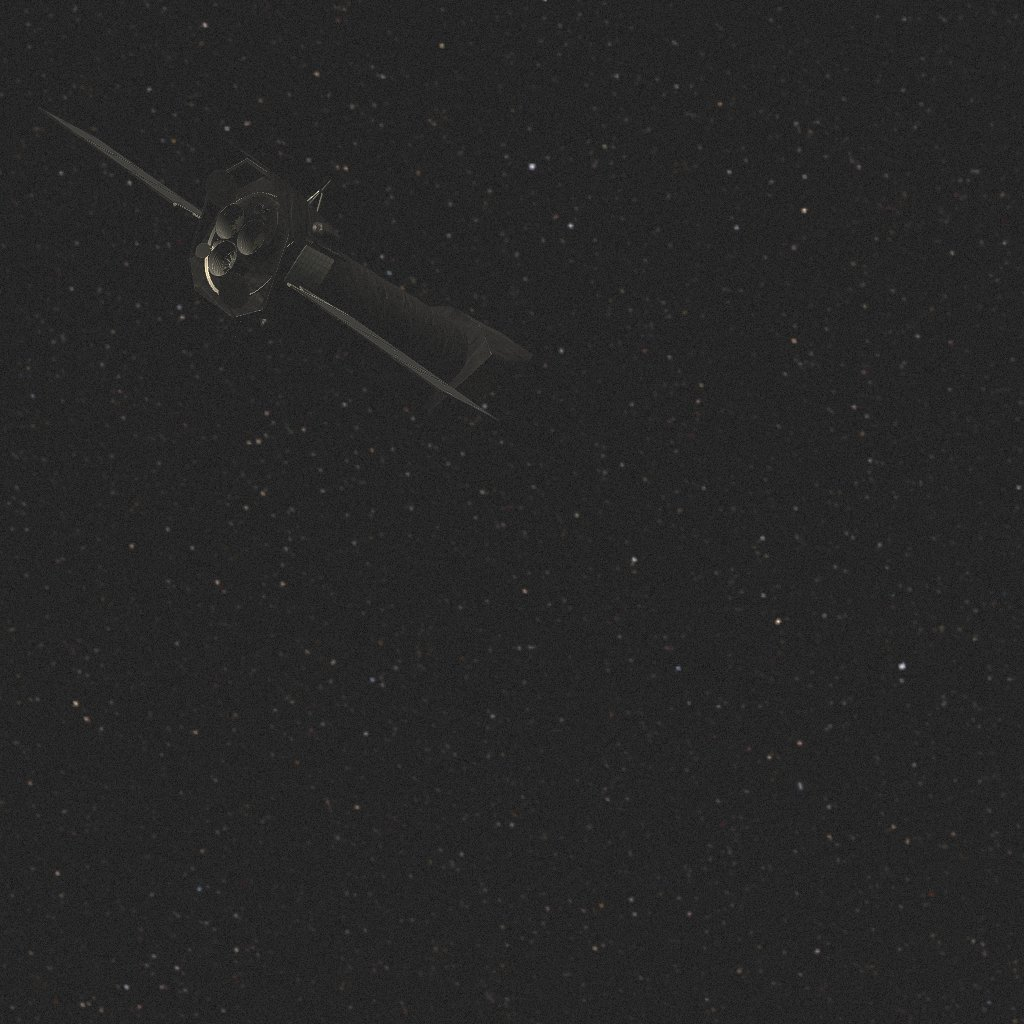xmm_newton: (49, 95, 518, 422)
